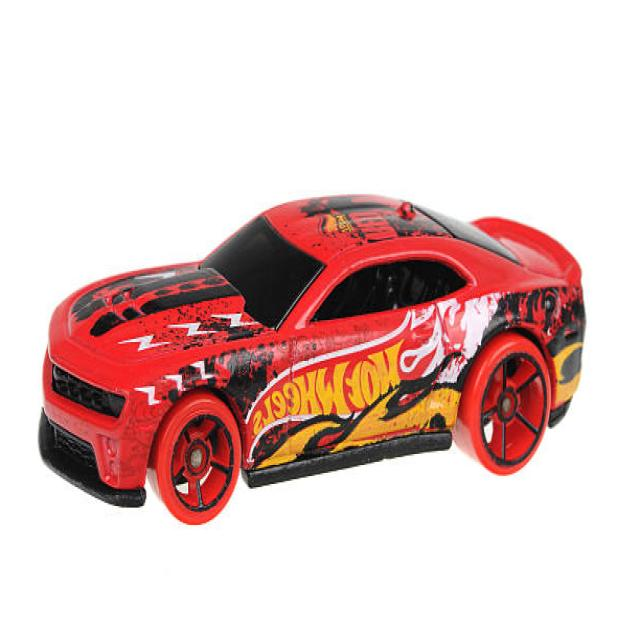Car: (38, 191, 586, 525)
